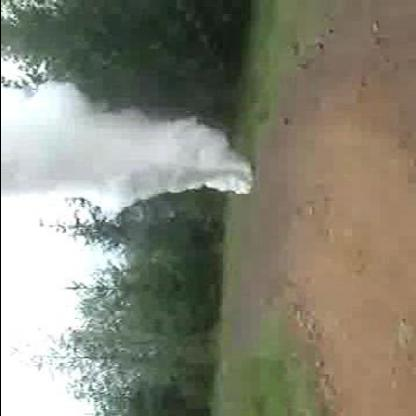Smoke: (5, 92, 242, 202)
